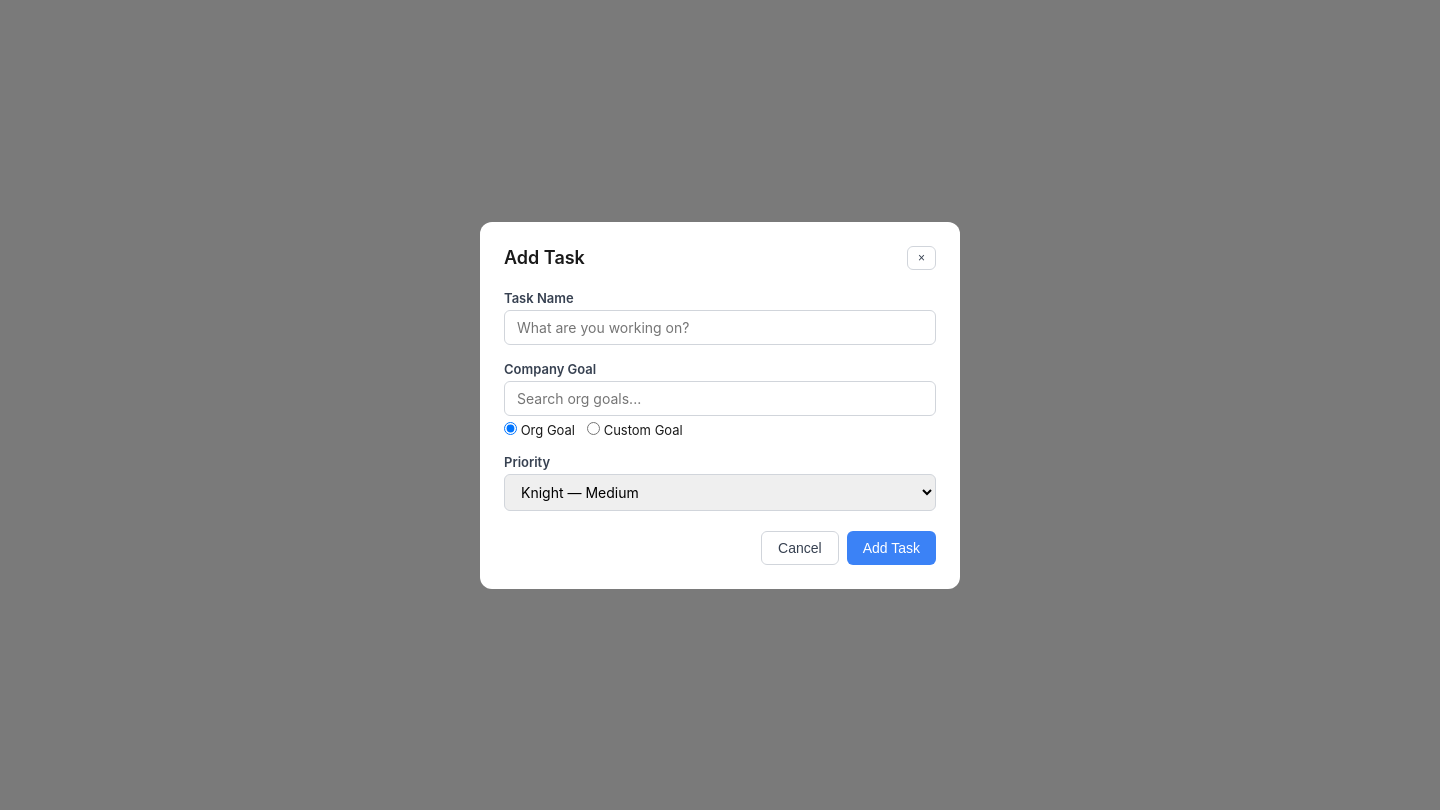
TaskFormModal › goal dropdown filters outcomes as user types
Focus to open dropdown
Step 1. Focus the field with placeholder "Search org goals..." → (720, 398), box [504,380,936,416]
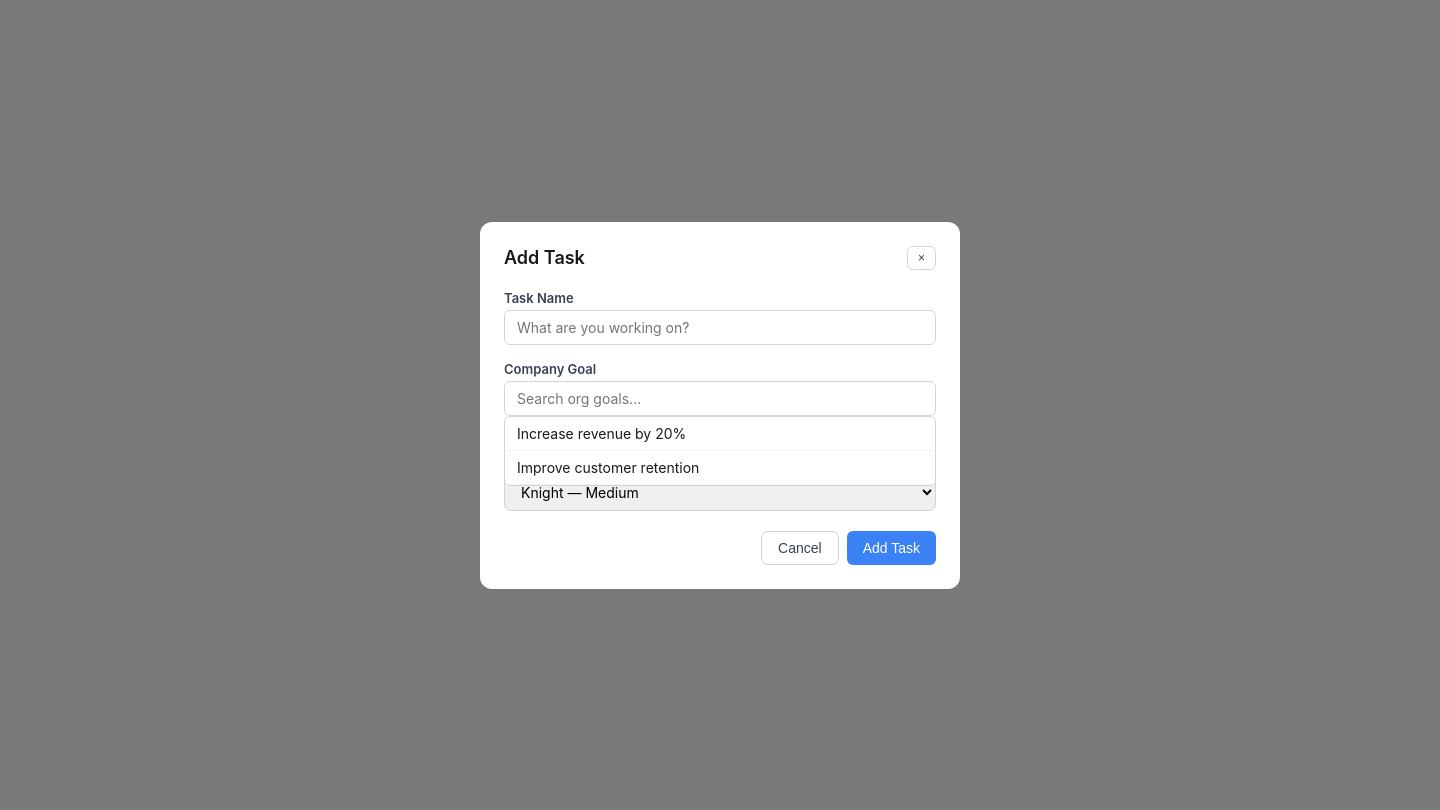
Check: the text "Increase revenue by 20%" is shown, box [505,416,935,450]
Check: the text "Improve customer retention" is shown, box [505,450,935,484]
Type to filter
Step 2. Type "revenue" into the field with placeholder "Search org goals..." → (720, 398), box [504,380,936,416]
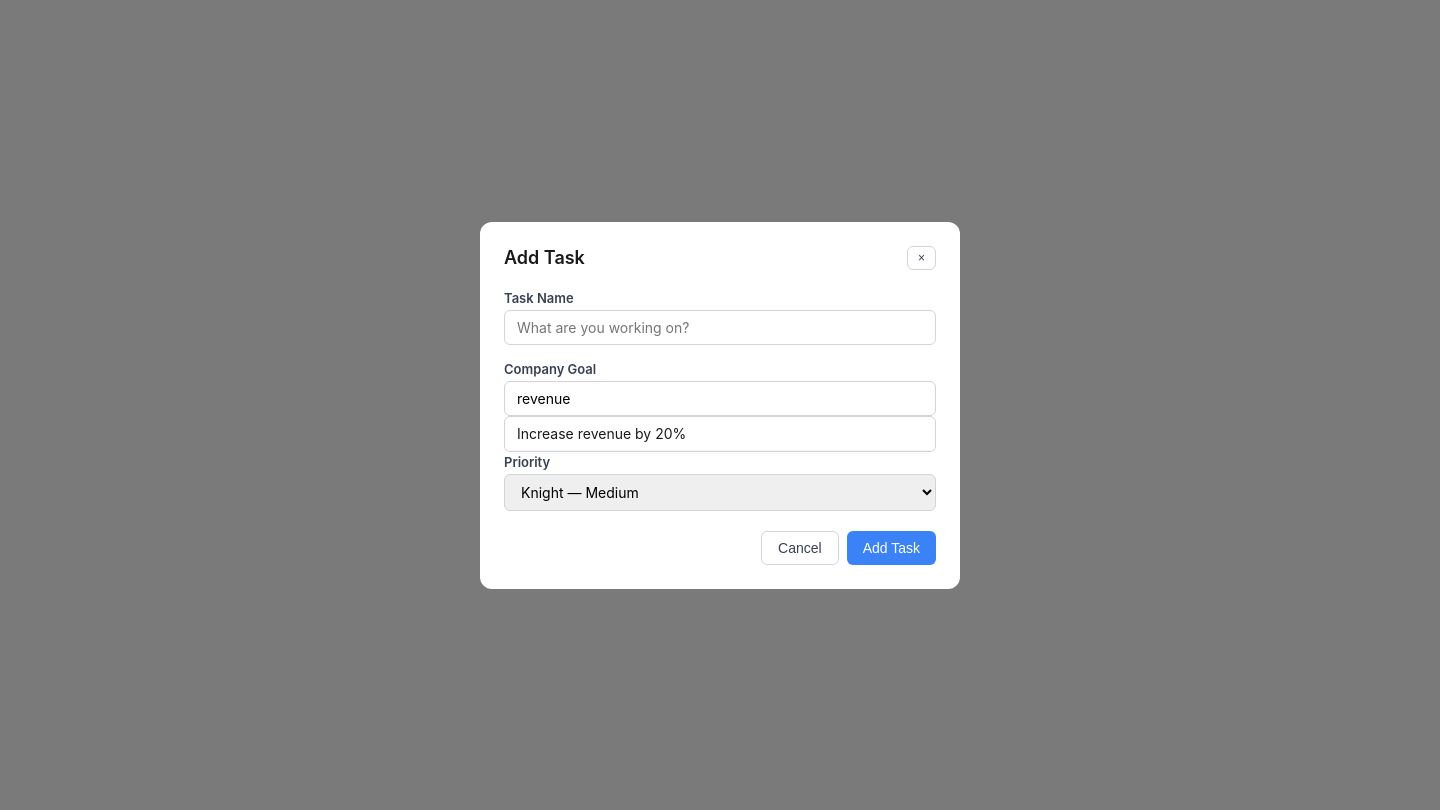
Check: the text "Increase revenue by 20%" is shown, box [505,416,935,450]
Check: the text "Improve customer retention" is gone
